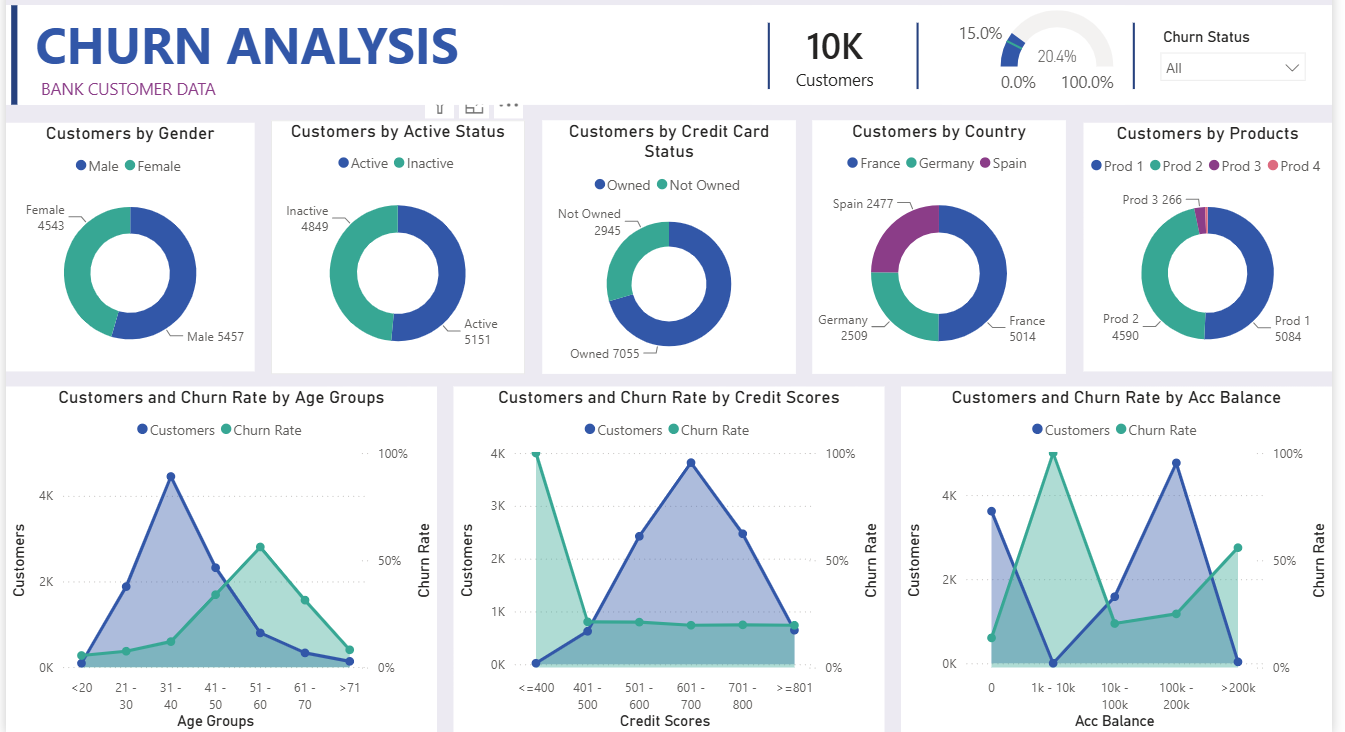

This screenshot's page, from the dashboard's own definition file:
{"tool":"powerbi","page":{"name":"Page 1","canvas":[1280,720],"ordinal":0},"visuals":[{"type":"shape","box":[0,16,1280,96],"z":0},{"type":"cardVisual","fields":{"Data":["Customer Data.Customers"]},"box":[720,16,160,96],"z":1000},{"type":"donutChart","fields":{"Category":["Customer Data.Gender"],"Y":["Customer Data.Customers"]},"box":[0,129.4,240,240],"z":2000},{"type":"donutChart","fields":{"Y":["Customer Data.Customers"],"Category":["Customer Data.Active Status"]},"box":[256.2,126.9,245,245],"z":3000},{"type":"donutChart","fields":{"Y":["Customer Data.Customers"],"Category":["Customer Data.Credit Card Status"]},"box":[517.5,126.9,245,245],"z":4000},{"type":"donutChart","fields":{"Y":["Customer Data.Customers"],"Category":["Customer Data.Country"]},"box":[778.8,126.9,245,245],"z":5000},{"type":"donutChart","fields":{"Y":["Customer Data.Customers"],"Category":["Customer Data.Products"]},"box":[1040,129.4,240,240],"z":6000},{"type":"areaChart","fields":{"Category":["Age Groups.Age Groups"],"Y":["Customer Data.Customers"],"Y2":["Customer Data.Churn Rate"]},"box":[0,384,416,336],"z":7000},{"type":"areaChart","fields":{"Category":["Credit Score Groups.Credit Scores"],"Y":["Customer Data.Customers"],"Y2":["Customer Data.Churn Rate"]},"box":[432,384,416,336],"z":8000},{"type":"areaChart","fields":{"Category":["Acc Balance Groups.Acc Balance"],"Y":["Customer Data.Customers"],"Y2":["Customer Data.Churn Rate"]},"box":[864,384,416,336],"z":9000},{"type":"slicer","fields":{"Values":["Customer Data.Churn Status"]},"box":[1104,32,160,64],"z":10000},{"type":"gauge","fields":{"Y":["Customer Data.Churn Rate"],"MinValue":["Min(Customer Data.Min Churn Rate)"],"MaxValue":["Max(Customer Data.Max Churn Rate)"],"TargetValue":["Max(Customer Data.Target Churn Rate)"]},"box":[904,16,176,96],"z":11000},{"type":"textbox","box":[0,16,480,96],"z":12000},{"type":"textbox","box":[16,80,304,32],"z":13000},{"type":"shape","box":[720,32,32,64],"z":14000},{"type":"shape","box":[864,32,32,64],"z":15000},{"type":"shape","box":[1072,32,32,64],"z":16000},{"type":"shape","box":[0,16,16,96],"z":17000}]}

Visuals, with their boxes in screenshot pixels (x1, y1, x2, y2):
shape: 161, 36, 1344, 129
cardVisual - Customer Data.Customers: 857, 36, 1012, 129
donutChart - Customer Data.Gender x Customer Data.Customers: 161, 146, 393, 378
donutChart - Customer Data.Customers x Customer Data.Active Status: 409, 144, 646, 381
donutChart - Customer Data.Customers x Customer Data.Credit Card Status: 662, 144, 899, 381
donutChart - Customer Data.Customers x Customer Data.Country: 914, 144, 1151, 381
donutChart - Customer Data.Customers x Customer Data.Products: 1167, 146, 1344, 378
areaChart - Age Groups.Age Groups x Customer Data.Customers: 161, 392, 563, 717
areaChart - Credit Score Groups.Credit Scores x Customer Data.Customers: 579, 392, 981, 717
areaChart - Acc Balance Groups.Acc Balance x Customer Data.Customers: 997, 392, 1344, 717
slicer - Customer Data.Churn Status: 1229, 52, 1344, 114
gauge - Customer Data.Churn Rate x Min(Customer Data.Min Churn Rate): 1035, 36, 1206, 129
textbox: 161, 36, 625, 129
textbox: 177, 98, 471, 129
shape: 857, 52, 888, 114
shape: 997, 52, 1028, 114
shape: 1198, 52, 1229, 114
shape: 161, 36, 177, 129
